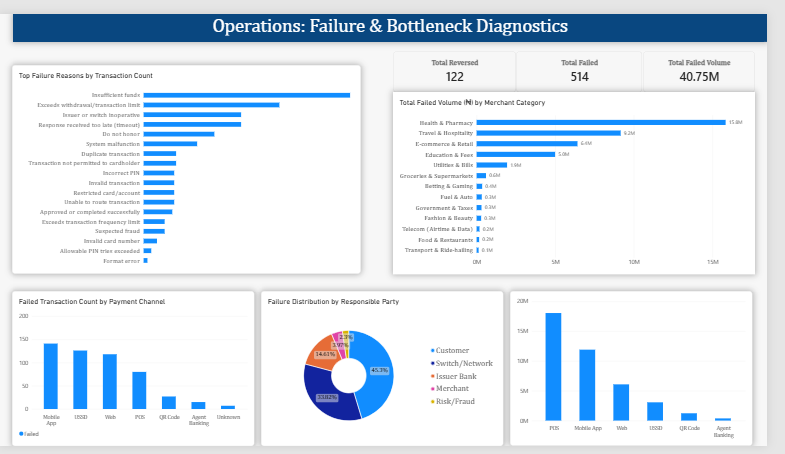

The dashboard page shown, as its layout file describes it:
{"tool":"powerbi","page":{"name":"Page 2","canvas":[1920,1080],"ordinal":1},"visuals":[{"type":"cardVisual","fields":{"Data":["transactions_clean.Total Reversed"]},"box":[984.3,91.4,308.3,104.2],"z":0},{"type":"cardVisual","fields":{"Data":["transactions_clean.Total Failed"]},"box":[1292.6,91.4,316.8,104.2],"z":1000},{"type":"columnChart","title":"Failed Transaction Count by Payment Channel","fields":{"Category":["transactions_clean.Clean_Channel"],"Series":["transactions_clean.status"],"Y":["CountNonNull(transactions_clean.transaction_id)"]},"box":[32.8,692.9,606,388],"z":2000},{"type":"clusteredBarChart","title":"Top Failure Reasons by Transaction Count","fields":{"Category":["response_codes_clean.response_description"],"Y":["CountNonNull(transactions_clean.transaction_id)"]},"box":[32.8,128.5,871.8,521.6],"z":3000},{"type":"donutChart","title":"Failure Distribution by Responsible Party","fields":{"Category":["response_codes_clean.responsible_party"],"Y":["CountNonNull(transactions_clean.transaction_id)"]},"box":[655.1,692.9,606,388],"z":4000},{"type":"clusteredColumnChart","fields":{"Category":["transactions_clean.Clean_Channel"],"Y":["transactions_clean.Total Failed Volume"]},"box":[1277.5,692.9,606,386.9],"z":5000},{"type":"cardVisual","fields":{"Data":["transactions_clean.Total Failed Volume"]},"box":[1609.4,91.4,280.6,104.2],"z":6000},{"type":"textbox","title":"Operations: Failure & Bottleneck Diagnostics","box":[34,0,1885.7,70.2],"z":7000},{"type":"clusteredBarChart","title":"Total Failed Volume (₦) by Merchant Category","fields":{"Category":["merchants_clean.merchant_category"],"Y":["transactions_clean.Total Failed Volume"]},"box":[985.2,194,904.6,456.1],"z":8000}]}

Visuals, with their boxes in screenshot pixels (x1, y1, x2, y2), scaled from the page's 1920x1080 canvas onto the 785x454 screenshot:
cardVisual - transactions_clean.Total Reversed: crop(402, 38, 528, 82)
cardVisual - transactions_clean.Total Failed: crop(528, 38, 658, 82)
"Failed Transaction Count by Payment Channel" columnChart: crop(13, 291, 261, 453)
"Top Failure Reasons by Transaction Count" clusteredBarChart: crop(13, 54, 370, 273)
"Failure Distribution by Responsible Party" donutChart: crop(268, 291, 516, 453)
clusteredColumnChart - transactions_clean.Clean_Channel x transactions_clean.Total Failed Volume: crop(522, 291, 770, 453)
cardVisual - transactions_clean.Total Failed Volume: crop(658, 38, 773, 82)
"Operations: Failure & Bottleneck Diagnostics" textbox: crop(14, 0, 784, 30)
"Total Failed Volume (₦) by Merchant Category" clusteredBarChart: crop(403, 82, 773, 273)
